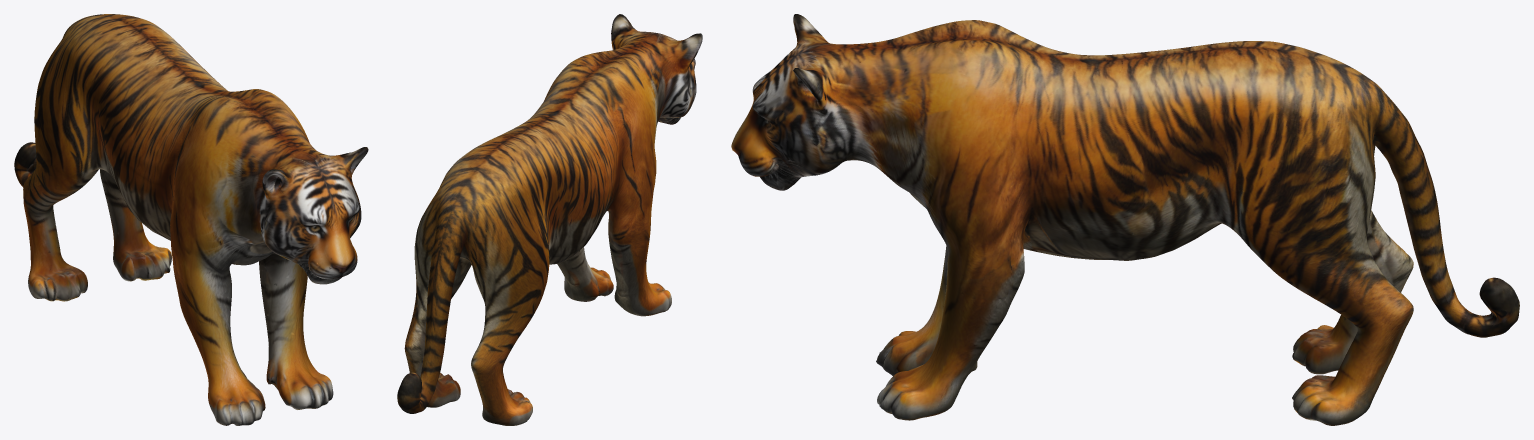
Rendered from tiger 16d.fbx.
3 views of the same model, side by side, from view 1: azimuth 30°, elevation 25°; view 2: azimuth 150°, elevation 25°; view 3: azimuth 270°, elevation 25° (orthographic). The views are drawn at different scales.
Parts seen in each view (by area): view 1: Mesh1_Mesh1.003; view 2: Mesh1_Mesh1.003; view 3: Mesh1_Mesh1.003.
Boxes of the visible parts, box(x1,y1,x2,y2) form: Mesh1_Mesh1.003: box(14, 14, 368, 425); Mesh1_Mesh1.003: box(397, 14, 702, 425); Mesh1_Mesh1.003: box(731, 14, 1519, 425).
Size of the model in its own units: 48.88 by 100 by 200.
Materials: 1 (1 with a texture image).
